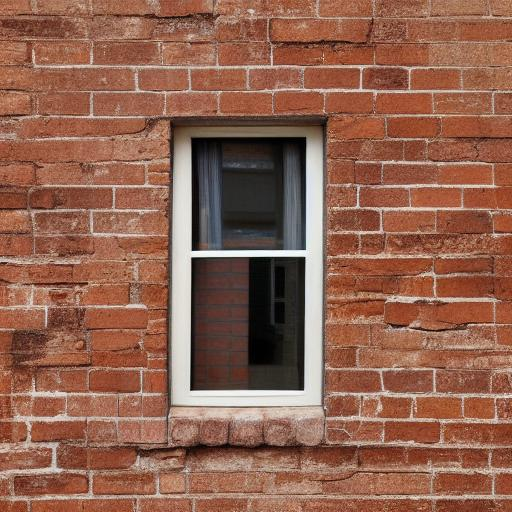Window: (161, 111, 333, 451)
